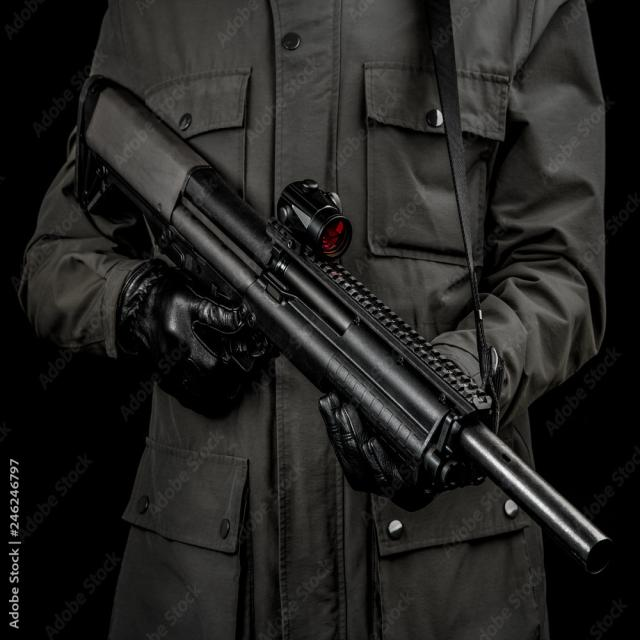ShotGun: (81, 78, 618, 577)
